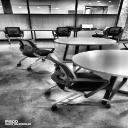chair_fail: (15, 37, 55, 57), (4, 27, 24, 38), (52, 27, 72, 37), (92, 27, 110, 38)
chair_success: (45, 52, 110, 110)
